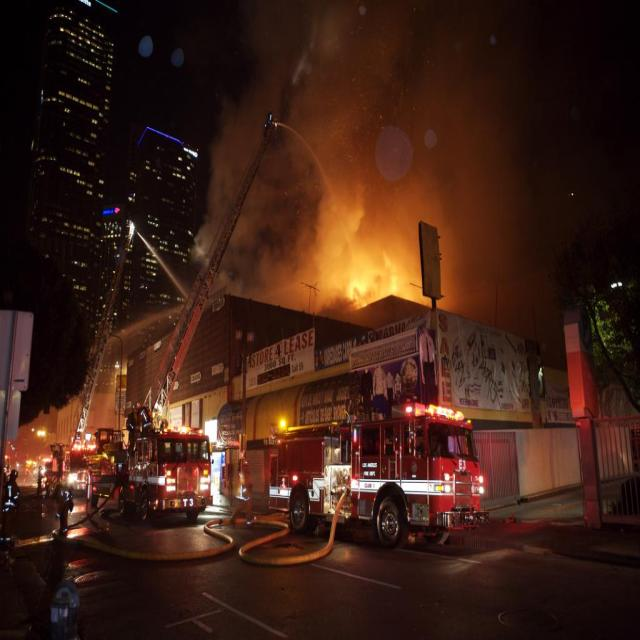smoke: (252, 22, 504, 176), (212, 168, 279, 288)
